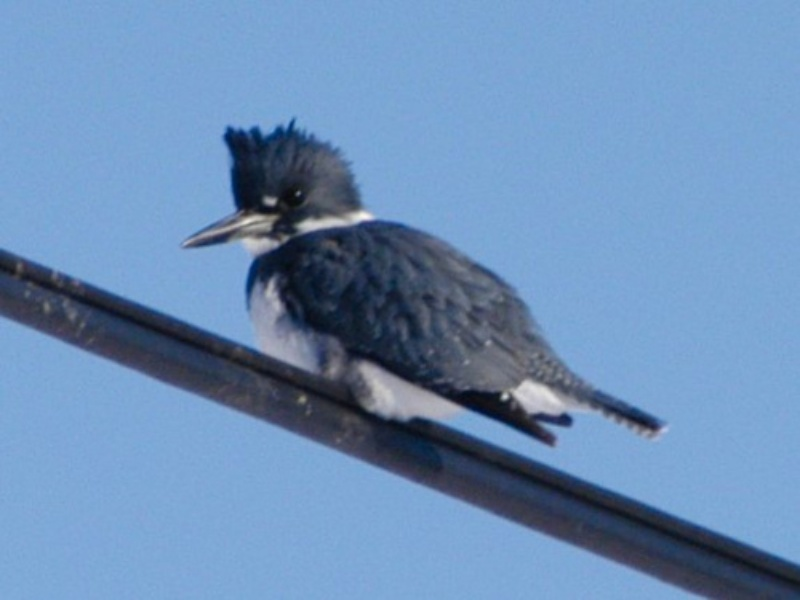kingfisher: (181, 117, 669, 463)
